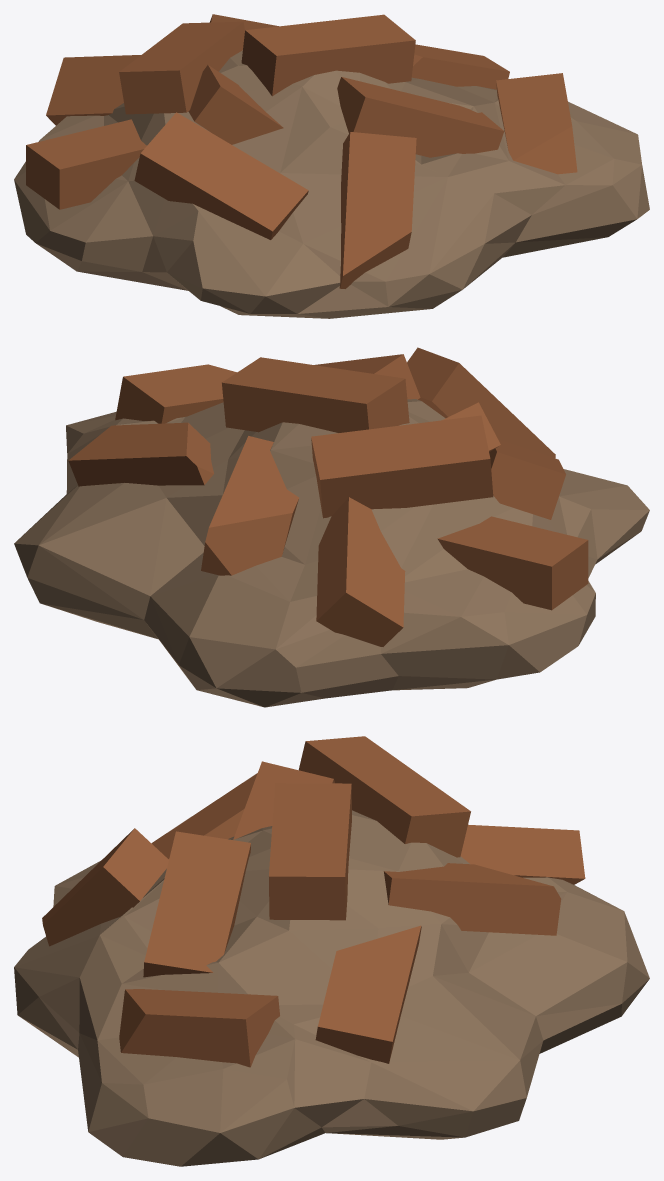
Rendered from LP_PostApoc_LargeBrickPile.fbx.
3 renders of one model, top to bottom at view 1: azimuth 30°, elevation 25°; view 2: azimuth 150°, elevation 25°; view 3: azimuth 270°, elevation 25°, orthographic. The views are drawn at different scales.
Visible parts, largest first — view 1: LargeBrickPile; view 2: LargeBrickPile; view 3: LargeBrickPile.
Part boxes in pixels (x1,y1,x2,y2): LargeBrickPile: (14, 14, 649, 318); LargeBrickPile: (14, 347, 649, 707); LargeBrickPile: (14, 736, 649, 1166).
Bounding box in the file's own units: 152 × 60.02 × 137.
